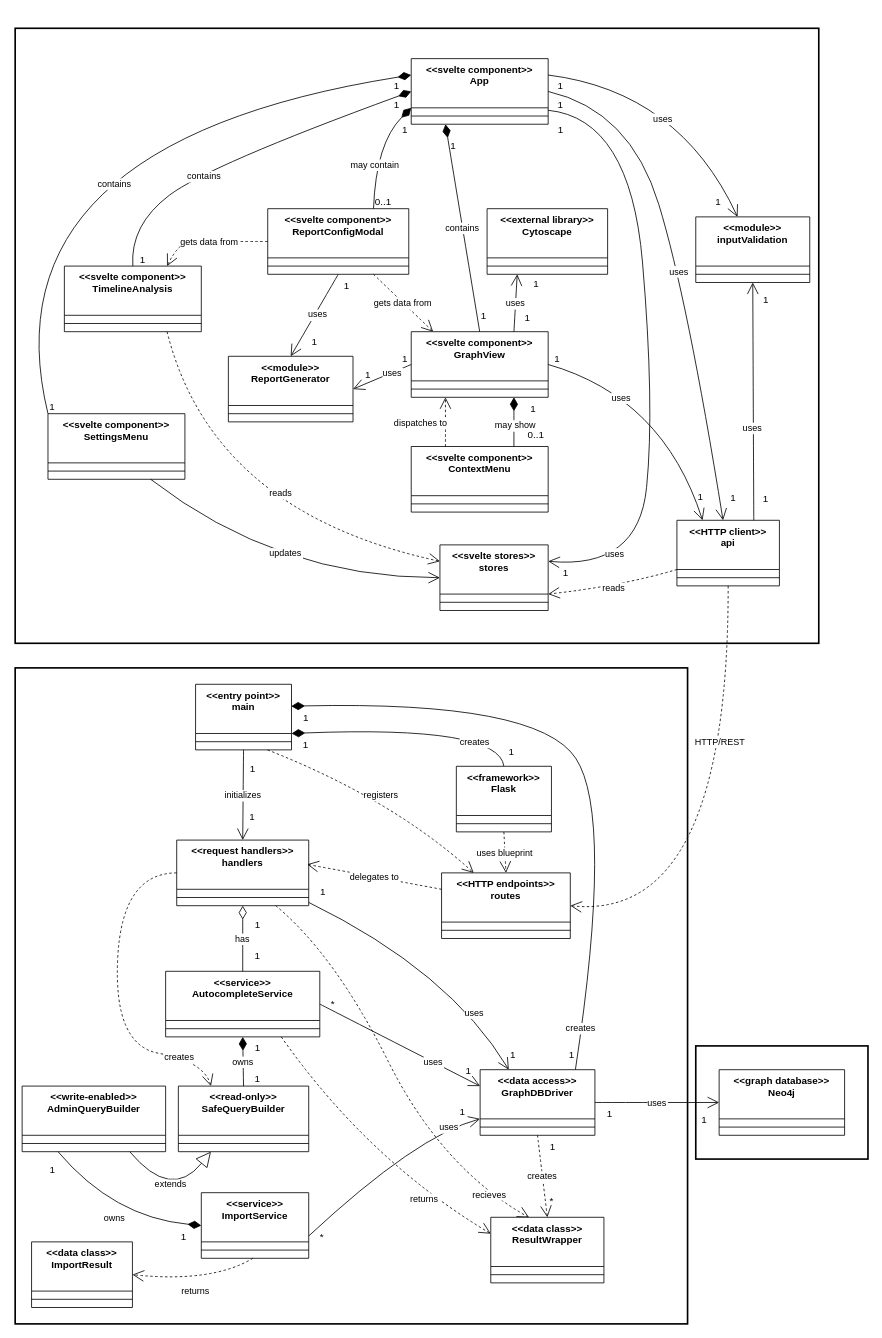
Some shapes in this 882 by 1338 pixel diagram are drawn without their labels. Each missing label, with the box of its shape:
Backend: (14, 667, 688, 1324)
Database: (695, 1045, 868, 1159)
Frontend: (14, 27, 819, 644)
